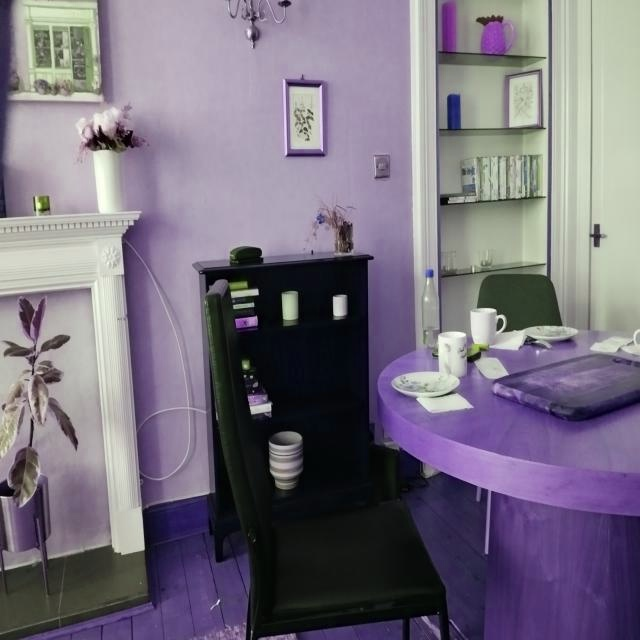book: (230, 280, 260, 339)
bookshelf: (410, 0, 570, 349)
cabinet: (193, 253, 373, 483), (201, 300, 240, 564)
chair: (205, 279, 452, 640), (473, 271, 562, 333)
lamp: (229, 0, 268, 49), (266, 0, 292, 23)
pillow: (0, 211, 142, 248)
stove: (376, 330, 640, 640)
